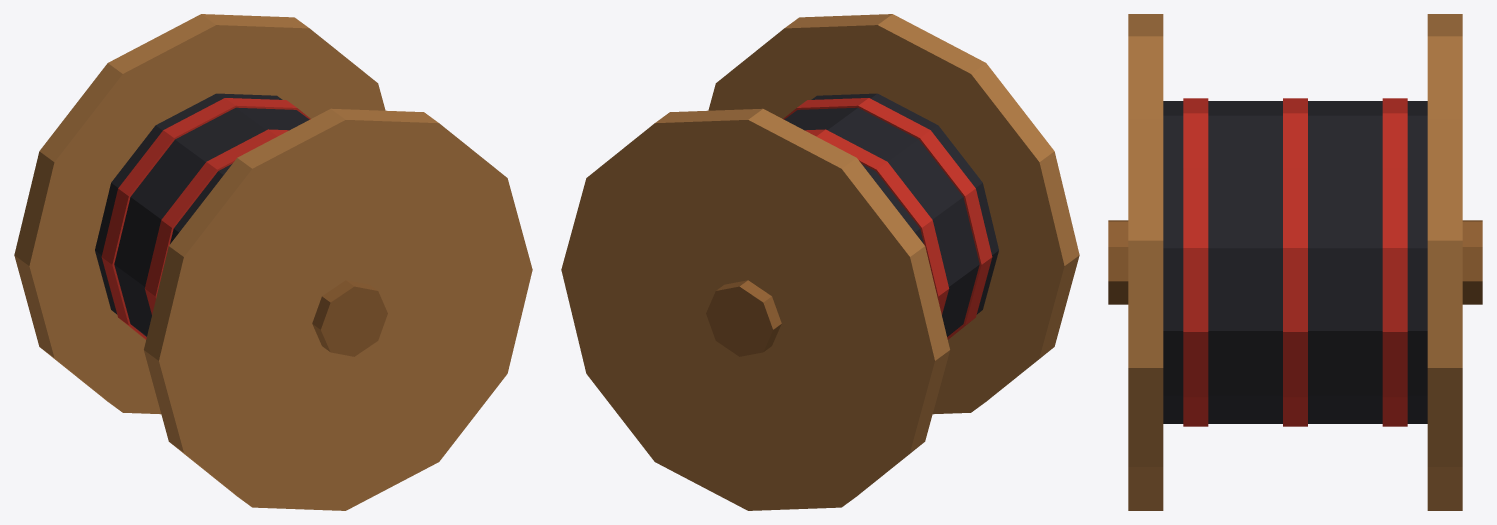
File: drum.glb
3 renders of one model, left to right at view 1: azimuth 30°, elevation 25°; view 2: azimuth 150°, elevation 25°; view 3: azimuth 270°, elevation 25°, orthographic. The views are drawn at different scales.
Parts seen in each view (by area): view 1: drum; view 2: drum; view 3: drum.
Boxes of the visible parts, bbox=[...] form: drum: bbox=[14, 14, 532, 510]; drum: bbox=[561, 14, 1079, 510]; drum: bbox=[1108, 14, 1482, 510].
Bounding box in the file's own units: 2 × 2 × 1.5.
